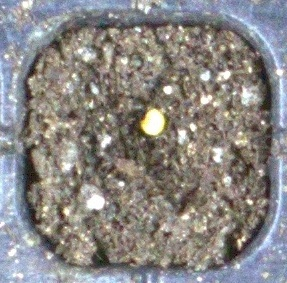chilli seed: (139, 107, 165, 135)
